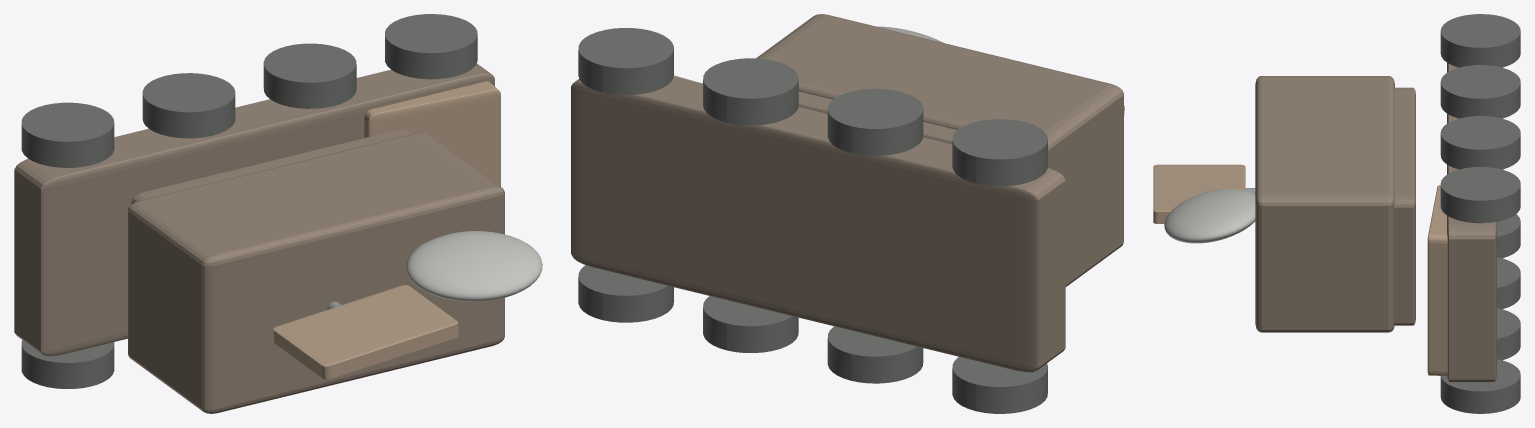
Rendered from d-u21-dominion-command-vehicle-lod1.glb.
3 renders of one model, left to right at view 1: azimuth 30°, elevation 25°; view 2: azimuth 150°, elevation 25°; view 3: azimuth 270°, elevation 25°, orthographic. The views are drawn at different scales.
Parts seen in each view (by area): view 1: command_body, chassis_lower, command_array_array, command_dish, chassis_nose, chassis_wheel_1_0, chassis_wheel_1_1, chassis_wheel_1_2, chassis_wheel_1_3, chassis_wheel_-1_0, upper_hull; view 2: chassis_lower, command_body, chassis_wheel_1_1, chassis_wheel_1_2, chassis_wheel_1_0, chassis_wheel_1_3, chassis_wheel_-1_0, chassis_wheel_-1_1, chassis_wheel_-1_3, chassis_wheel_-1_2, upper_hull; view 3: command_body, chassis_lower, upper_hull, chassis_wheel_1_3, command_dish, chassis_wheel_1_0, chassis_wheel_1_1, chassis_wheel_1_2, chassis_nose, command_array_array, chassis_wheel_-1_3, chassis_wheel_-1_1 (+2 smaller).
Boxes of the visible parts, box(x1,y1,x2,y2) form: command_body: box(128, 132, 504, 413); chassis_lower: box(14, 63, 494, 356); command_array_array: box(273, 285, 459, 379); command_dish: box(406, 231, 542, 301); chassis_nose: box(364, 81, 500, 186); chassis_wheel_1_0: box(21, 102, 114, 167); chassis_wheel_1_1: box(142, 73, 235, 138); chassis_wheel_1_2: box(263, 43, 356, 108); chassis_wheel_1_3: box(385, 14, 477, 79); chassis_wheel_-1_0: box(21, 340, 114, 388); upper_hull: box(131, 129, 413, 203); chassis_lower: box(571, 76, 1065, 372); command_body: box(756, 14, 1123, 286); chassis_wheel_1_1: box(827, 88, 923, 155); chassis_wheel_1_2: box(703, 58, 798, 125); chassis_wheel_1_0: box(952, 119, 1047, 186); chassis_wheel_1_3: box(578, 28, 673, 94); chassis_wheel_-1_0: box(952, 357, 1047, 413); chassis_wheel_-1_1: box(827, 326, 923, 383); chassis_wheel_-1_3: box(578, 265, 673, 322); chassis_wheel_-1_2: box(703, 296, 798, 352); upper_hull: box(798, 91, 957, 143); command_body: box(1255, 76, 1394, 332); chassis_lower: box(1447, 63, 1496, 382); upper_hull: box(1394, 87, 1415, 325); chassis_wheel_1_3: box(1440, 167, 1520, 223); command_dish: box(1164, 189, 1255, 243); chassis_wheel_1_0: box(1440, 14, 1520, 67); chassis_wheel_1_1: box(1440, 65, 1520, 118); chassis_wheel_1_2: box(1440, 116, 1520, 169); chassis_nose: box(1427, 185, 1447, 375); command_array_array: box(1153, 164, 1245, 223); chassis_wheel_-1_3: box(1440, 359, 1520, 413); chassis_wheel_-1_1: box(1497, 257, 1520, 309).
Size of what is drawn, in the model's own units: 6.92 by 3.6 by 5.63.
